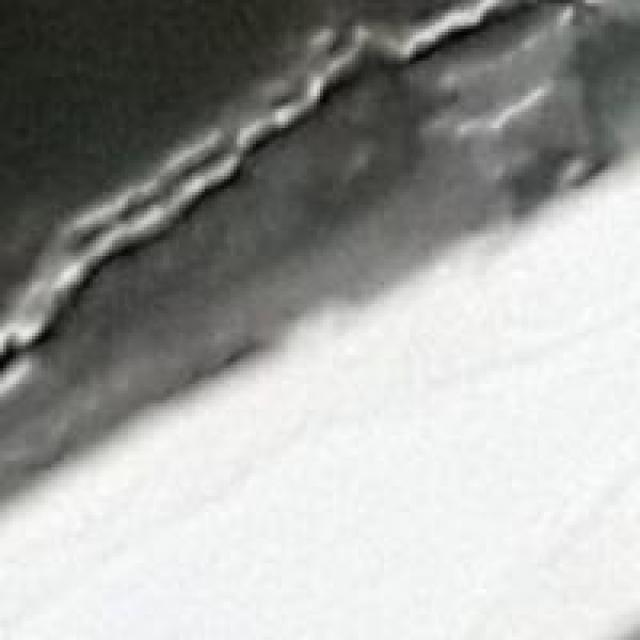Crack: (0, 0, 611, 403)
